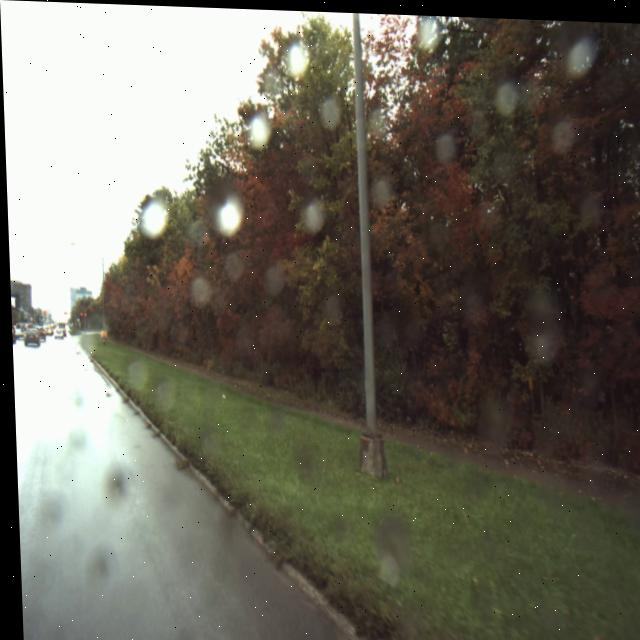car: (21, 326, 38, 348), (51, 323, 65, 339), (35, 325, 43, 343)
